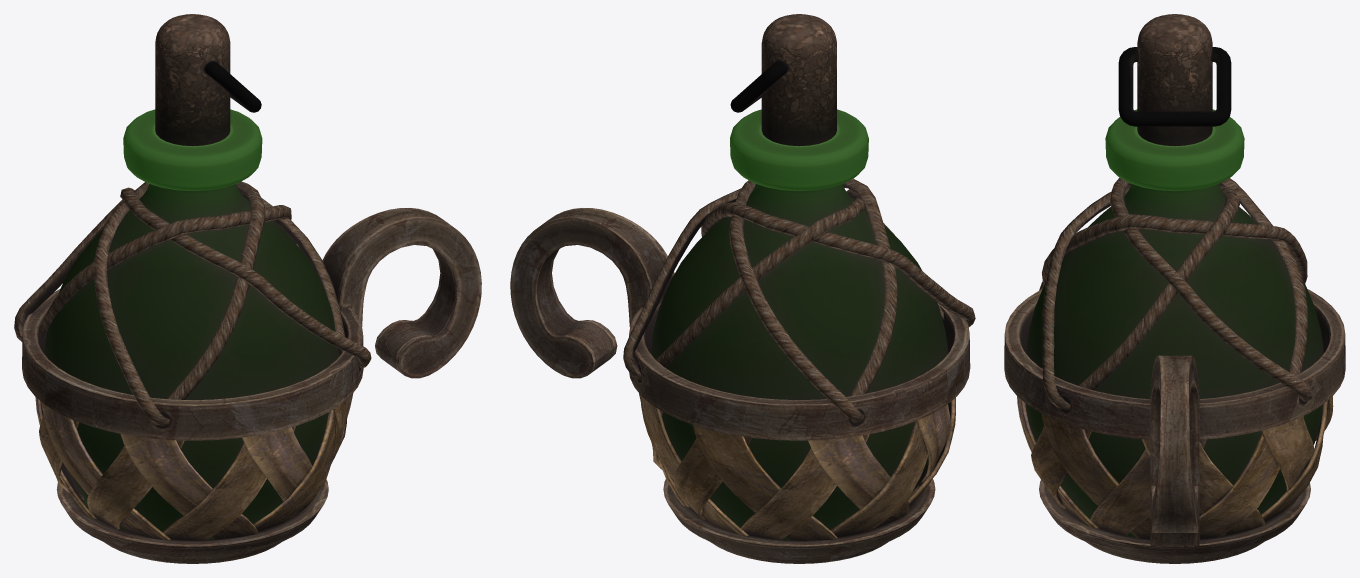
3 views of the same model, side by side, from view 1: azimuth 30°, elevation 25°; view 2: azimuth 150°, elevation 25°; view 3: azimuth 270°, elevation 25° (orthographic).
Parts seen in each view (by area): view 1: flask; view 2: flask; view 3: flask.
Boxes of the visible parts, box(x1,y1,x2,y2) form: flask: box(14, 14, 481, 563); flask: box(510, 14, 975, 563); flask: box(1004, 14, 1345, 563).
Size of the model in its own units: 3.17 by 3.52 by 2.19.
1 material, 1 textured.
